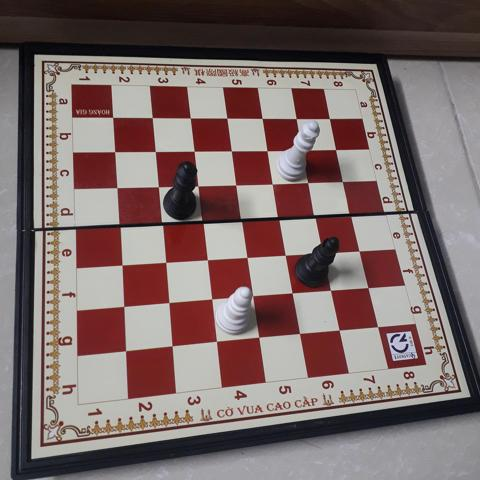xcorner: (148, 144, 163, 159), (110, 180, 125, 195), (346, 207, 361, 222), (273, 210, 288, 225), (112, 217, 127, 232), (354, 242, 369, 257), (200, 251, 215, 266), (158, 254, 173, 269), (363, 279, 378, 294), (372, 318, 387, 333), (334, 322, 349, 337), (294, 326, 309, 341), (210, 334, 225, 349), (165, 338, 180, 353), (119, 343, 134, 358), (290, 112, 305, 126), (220, 112, 235, 126), (183, 112, 198, 126), (145, 112, 160, 126), (106, 112, 121, 126), (331, 142, 346, 156), (297, 142, 311, 157), (261, 143, 276, 157), (225, 143, 239, 158), (187, 144, 202, 158), (108, 145, 123, 159), (338, 174, 353, 188), (303, 175, 318, 189), (267, 176, 282, 190), (191, 178, 206, 192), (151, 179, 166, 193), (310, 209, 325, 223), (235, 212, 250, 226), (155, 215, 169, 230), (318, 244, 332, 259), (280, 247, 295, 261), (241, 249, 255, 264), (114, 257, 129, 271), (326, 282, 340, 297), (287, 285, 301, 300), (247, 288, 261, 303), (162, 295, 176, 310), (117, 298, 131, 313), (253, 330, 267, 345), (324, 112, 338, 126), (256, 112, 270, 126), (230, 177, 244, 191), (196, 214, 210, 228), (205, 292, 219, 306)
